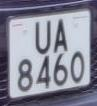0: (68, 46, 86, 84)
4: (33, 54, 54, 91)
6: (51, 50, 70, 91)
8: (15, 56, 35, 93)
A: (53, 14, 70, 58)
U: (35, 17, 53, 58)
